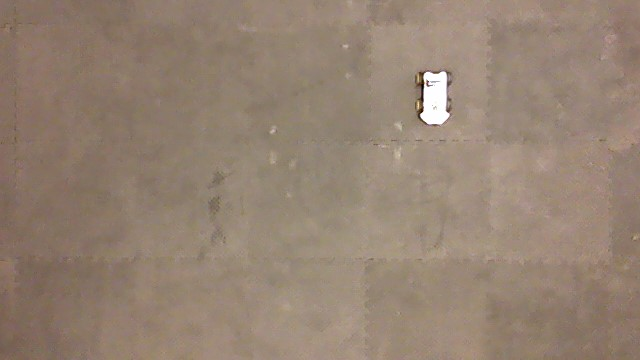Agent: (413, 67, 454, 128)
